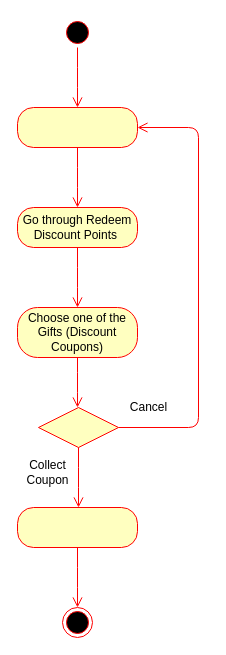
This 226x655 diagram has some shape labels left out. The shapes that lost their labels are listed below. From the top down, each one's centre as x and y in pixels, then its label:
At point (77, 127): "Go to Dashboard".
At point (77, 527): "Coupon is added to the list of Discount Coupons".
